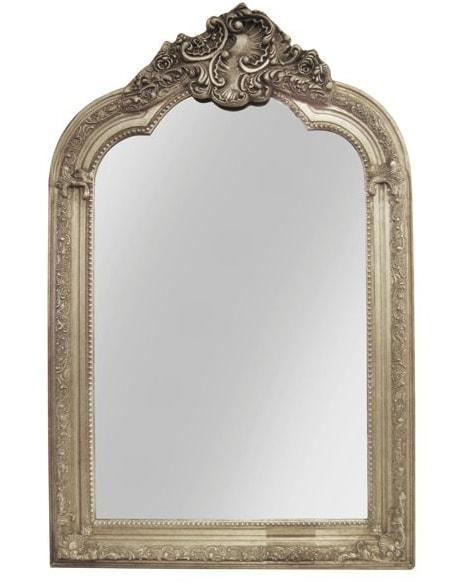Nonrec_Glass: (39, 11, 430, 580)
